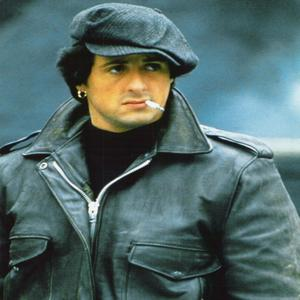cigarette: (143, 96, 166, 116)
